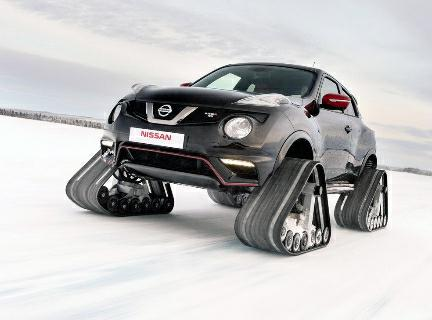日产-JUKE: (56, 54, 395, 260)
